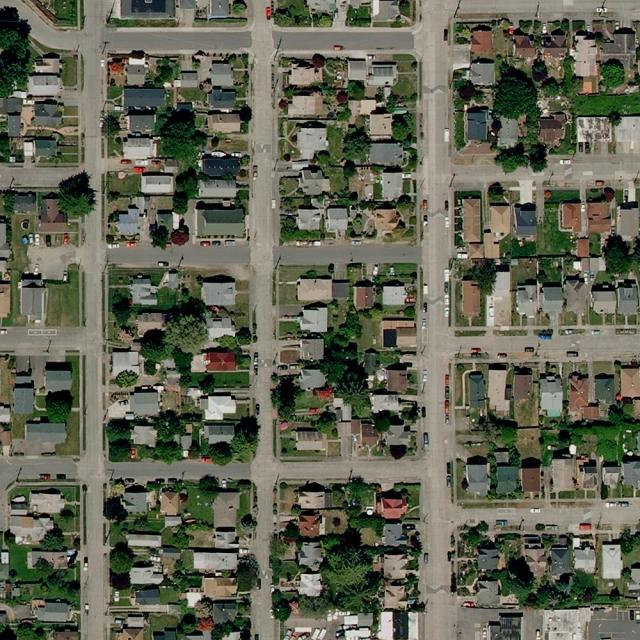building: (329, 391, 382, 457), (599, 25, 639, 71), (12, 421, 66, 455), (542, 607, 592, 640), (486, 265, 513, 326), (346, 59, 399, 88), (197, 205, 245, 237), (293, 120, 330, 161), (296, 276, 350, 301), (20, 272, 47, 321), (10, 515, 54, 545), (209, 61, 236, 109), (571, 32, 599, 78), (487, 363, 510, 416), (381, 317, 416, 349), (201, 275, 237, 306), (192, 549, 238, 573), (40, 193, 68, 232), (538, 112, 568, 148), (375, 488, 408, 520), (11, 372, 35, 415), (298, 164, 331, 195), (212, 491, 240, 527), (576, 116, 613, 143), (129, 384, 159, 417), (540, 374, 563, 417), (29, 487, 67, 513), (540, 30, 566, 68), (522, 535, 546, 576), (298, 301, 328, 333), (466, 455, 490, 495), (203, 393, 237, 421), (584, 200, 612, 234), (24, 421, 67, 443), (0, 97, 23, 138), (369, 140, 405, 166), (296, 276, 333, 301), (460, 199, 481, 243), (324, 204, 350, 239), (616, 201, 639, 240), (297, 483, 331, 509), (201, 155, 239, 178), (565, 277, 588, 315), (32, 100, 63, 128), (202, 575, 238, 599), (287, 94, 323, 118), (514, 202, 538, 238), (551, 457, 575, 493), (516, 279, 538, 318), (373, 206, 402, 235), (120, 483, 148, 513), (465, 106, 489, 141), (130, 274, 157, 305), (206, 111, 242, 134), (124, 88, 165, 108), (541, 282, 562, 321), (27, 550, 70, 569), (497, 116, 521, 150), (296, 540, 323, 570), (206, 314, 237, 340), (591, 282, 616, 314), (569, 371, 589, 411), (35, 601, 73, 622), (27, 74, 60, 98), (295, 203, 323, 231), (45, 361, 71, 391), (197, 179, 238, 198), (461, 280, 481, 318), (141, 172, 175, 194), (124, 136, 156, 159), (296, 428, 328, 451), (490, 204, 511, 239), (112, 350, 140, 376), (577, 458, 599, 491), (572, 546, 597, 575), (116, 206, 140, 236), (521, 456, 541, 492), (370, 392, 402, 414), (204, 351, 236, 373), (381, 521, 408, 547), (382, 554, 409, 580), (297, 509, 322, 537), (618, 279, 638, 314), (601, 544, 621, 579), (496, 464, 519, 494), (467, 371, 485, 409), (386, 362, 408, 393), (512, 366, 532, 400), (298, 337, 325, 362), (127, 109, 155, 133), (129, 566, 164, 585), (559, 202, 581, 232), (469, 61, 495, 86), (615, 116, 640, 142), (137, 312, 164, 336), (512, 34, 537, 59), (212, 600, 238, 624), (213, 526, 239, 550), (300, 335, 324, 361), (477, 581, 501, 607), (131, 424, 158, 447), (204, 424, 235, 444), (289, 66, 317, 88), (126, 531, 162, 548), (381, 171, 402, 200), (594, 374, 615, 403), (354, 280, 374, 310), (369, 114, 393, 139), (550, 545, 570, 575), (591, 19, 618, 41), (34, 52, 62, 73), (159, 489, 180, 517), (383, 584, 406, 609), (299, 572, 322, 596), (34, 136, 59, 158), (299, 369, 325, 390), (385, 425, 411, 446), (126, 58, 145, 86), (601, 461, 620, 489), (0, 216, 12, 260), (452, 43, 471, 70), (580, 257, 607, 276), (470, 30, 493, 52), (477, 548, 500, 570), (349, 99, 377, 117), (382, 285, 407, 305), (134, 589, 160, 607), (484, 230, 500, 259), (14, 191, 36, 212), (379, 611, 394, 639), (159, 268, 180, 288), (0, 281, 11, 318), (21, 105, 34, 136), (209, 0, 230, 19), (156, 210, 174, 231), (0, 425, 12, 456), (179, 71, 198, 88), (408, 611, 419, 639), (582, 402, 599, 420), (467, 242, 484, 259), (161, 546, 182, 559), (357, 612, 374, 628), (576, 238, 589, 258), (22, 139, 35, 158), (291, 160, 309, 172), (489, 621, 501, 639), (0, 404, 11, 423), (165, 515, 182, 527), (344, 615, 359, 627), (632, 398, 640, 419), (221, 631, 241, 639)
greenland: (318, 307, 377, 417), (143, 99, 216, 176), (319, 529, 383, 615), (316, 80, 374, 168), (501, 569, 598, 610), (137, 312, 209, 364), (489, 62, 544, 123), (488, 553, 543, 611), (0, 6, 30, 97), (329, 475, 381, 521), (45, 264, 79, 326), (201, 434, 259, 469), (265, 372, 304, 422), (56, 171, 97, 218), (524, 55, 564, 102), (165, 555, 207, 598), (141, 53, 182, 97), (572, 92, 640, 116), (181, 485, 222, 524), (495, 142, 548, 172), (272, 0, 333, 26), (602, 235, 640, 275), (3, 541, 39, 583), (149, 612, 214, 635), (270, 534, 299, 585), (38, 567, 82, 600), (172, 166, 201, 216), (479, 412, 518, 449), (170, 344, 200, 388), (153, 408, 188, 444), (216, 324, 255, 356), (106, 418, 134, 462), (280, 216, 325, 243), (559, 54, 584, 99), (346, 509, 386, 537), (163, 288, 205, 314), (45, 390, 75, 424), (136, 441, 181, 463), (498, 234, 538, 258), (99, 494, 128, 526), (109, 289, 133, 327), (235, 554, 259, 591), (298, 592, 333, 617), (392, 112, 415, 148), (110, 541, 135, 574), (522, 104, 542, 145), (600, 58, 626, 89), (233, 416, 261, 444), (167, 525, 195, 552), (128, 514, 164, 534), (195, 371, 221, 397), (271, 589, 292, 621), (208, 620, 241, 640), (40, 525, 65, 551), (31, 556, 56, 581), (211, 372, 249, 388), (346, 4, 372, 26), (102, 113, 121, 139), (487, 181, 507, 204), (193, 597, 213, 619), (238, 512, 258, 532), (199, 474, 219, 492), (0, 132, 10, 162), (190, 372, 205, 386), (50, 591, 72, 599), (68, 569, 73, 579)
metalled_road: (415, 0, 457, 640), (74, 0, 109, 640), (452, 153, 640, 188), (107, 242, 249, 278), (0, 0, 85, 60), (275, 456, 424, 485), (107, 456, 251, 485), (104, 27, 251, 54), (275, 241, 421, 266), (274, 27, 414, 53), (0, 326, 81, 356)
